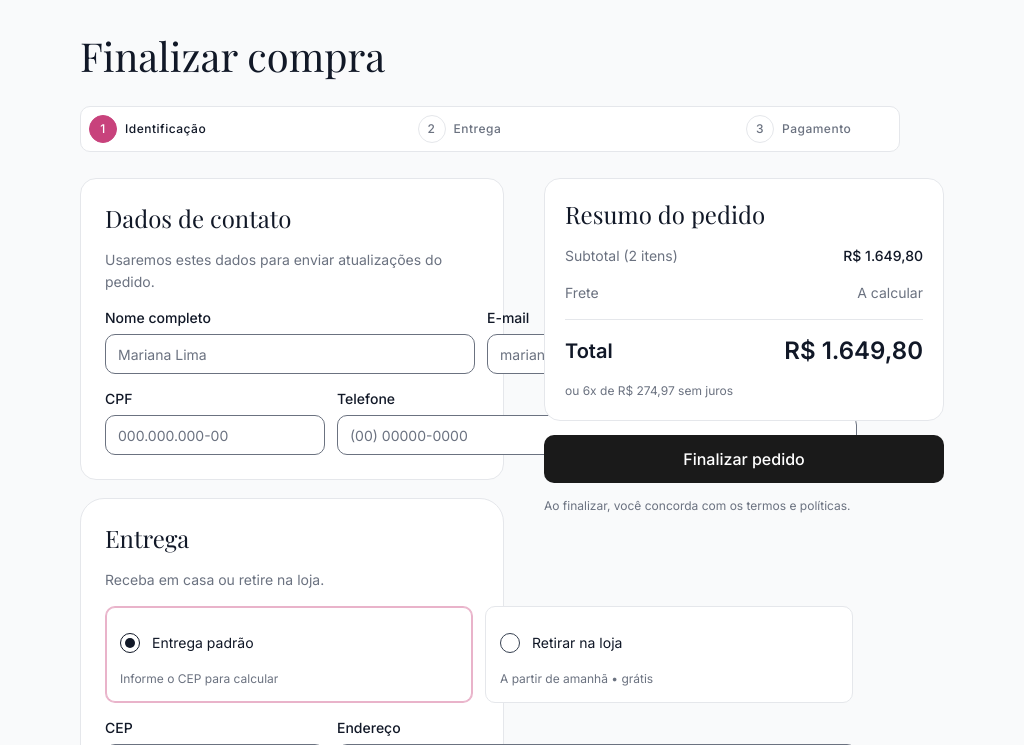
Scenario: CheckoutPage › com itens › Retirar na loja esconde o endereço e zera o frete
Click the radio button labelled "Retirar na loja A partir de amanhã • grátis".
click(577, 642)  # box [485,606,853,703]
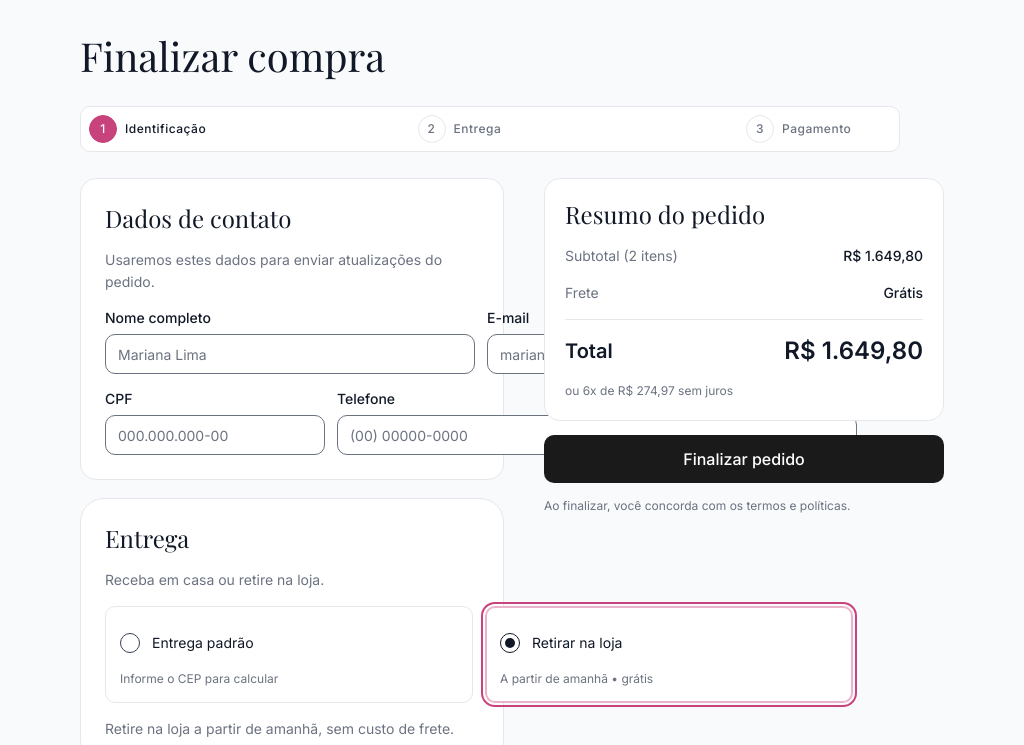
Expected: the text "Retire na loja a partir de amanhã, sem custo de frete." is shown, [105,718,479,740]
Expected: the text "Grátis" is shown, [883,283,923,303]
